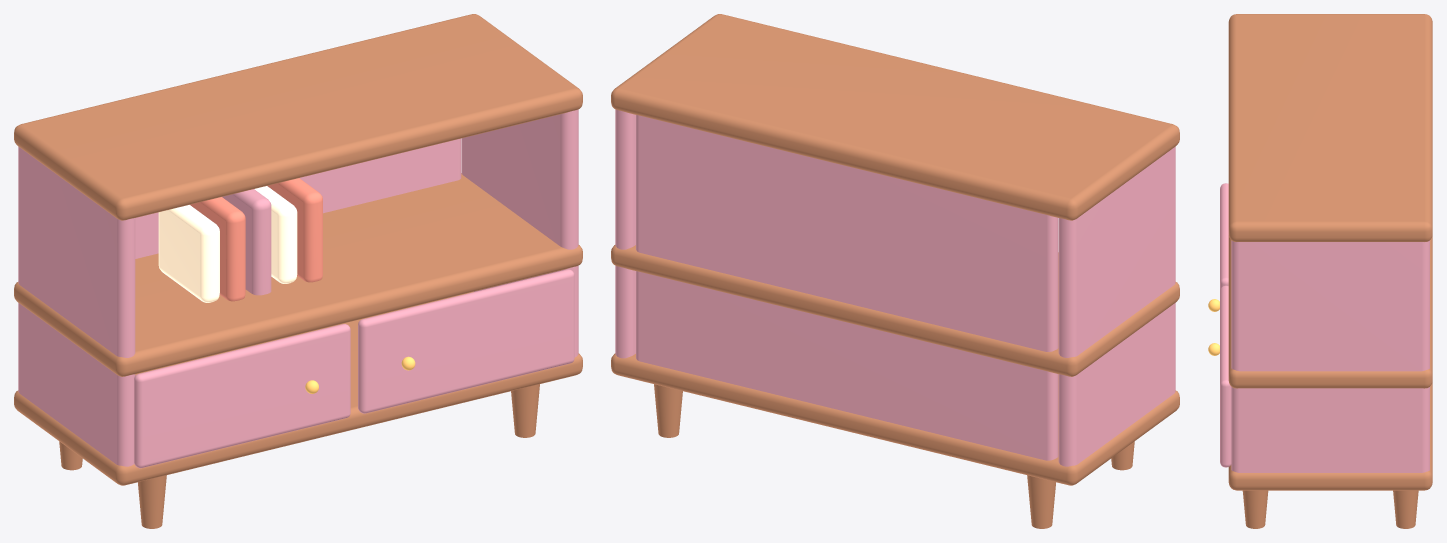
File: berry_credenza.glb
The picture shows the model from 3 angles, left to right: view 1: azimuth 30°, elevation 25°; view 2: azimuth 150°, elevation 25°; view 3: azimuth 270°, elevation 25°; orthographic projection. The views are drawn at different scales.
Visible parts, largest first — view 1: berry_credenza; view 2: berry_credenza; view 3: berry_credenza.
Boxes of the visible parts, x1=… form: berry_credenza: x1=14, y1=14, x2=582, y2=528; berry_credenza: x1=611, y1=14, x2=1179, y2=528; berry_credenza: x1=1208, y1=14, x2=1432, y2=528.
Size of the model in its own units: 0.94 by 0.661 by 0.418.
